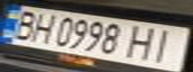0: (48, 15, 75, 47)
8: (100, 20, 130, 56)
9: (84, 18, 109, 54), (66, 17, 90, 52)
B: (3, 8, 42, 41)
H: (121, 23, 163, 62), (24, 10, 57, 45)
I: (145, 27, 187, 64)
